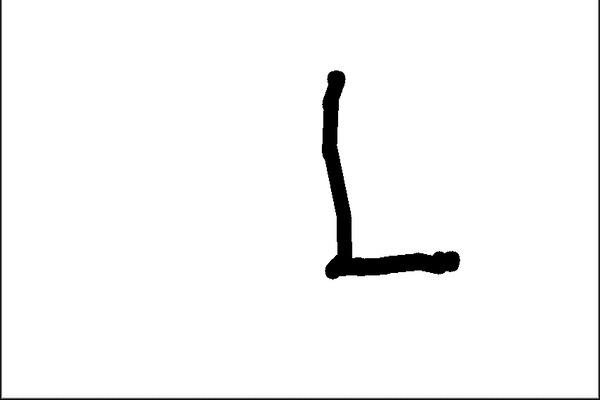L: (312, 63, 464, 284)
